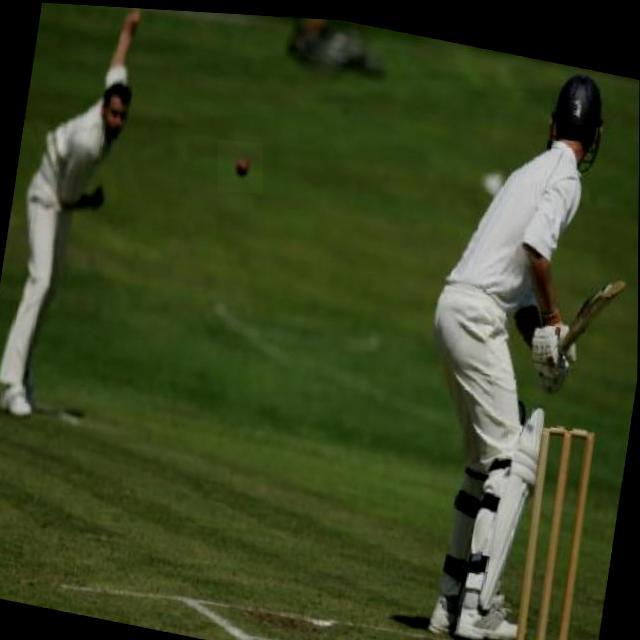-: (218, 137, 263, 190)
